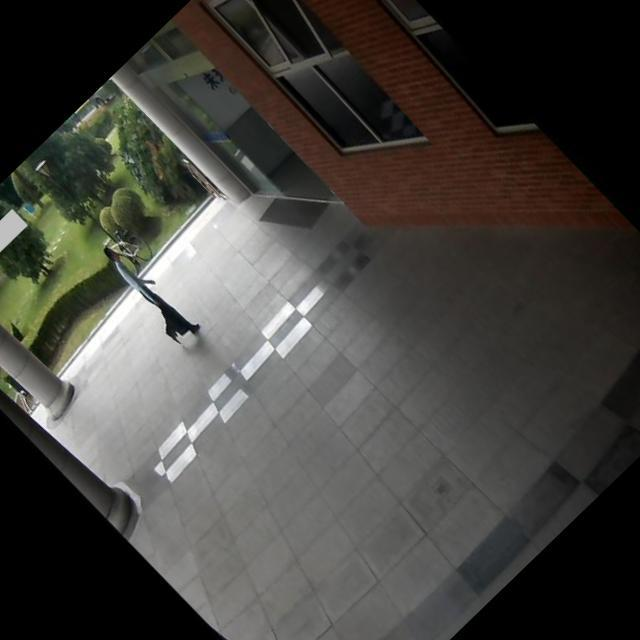person: (88, 230, 208, 352)
